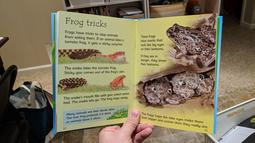text block: (137, 109, 213, 130), (64, 27, 127, 49), (60, 88, 131, 106), (62, 62, 127, 75), (63, 108, 119, 123), (62, 14, 109, 29), (138, 31, 169, 53), (139, 52, 169, 68)
